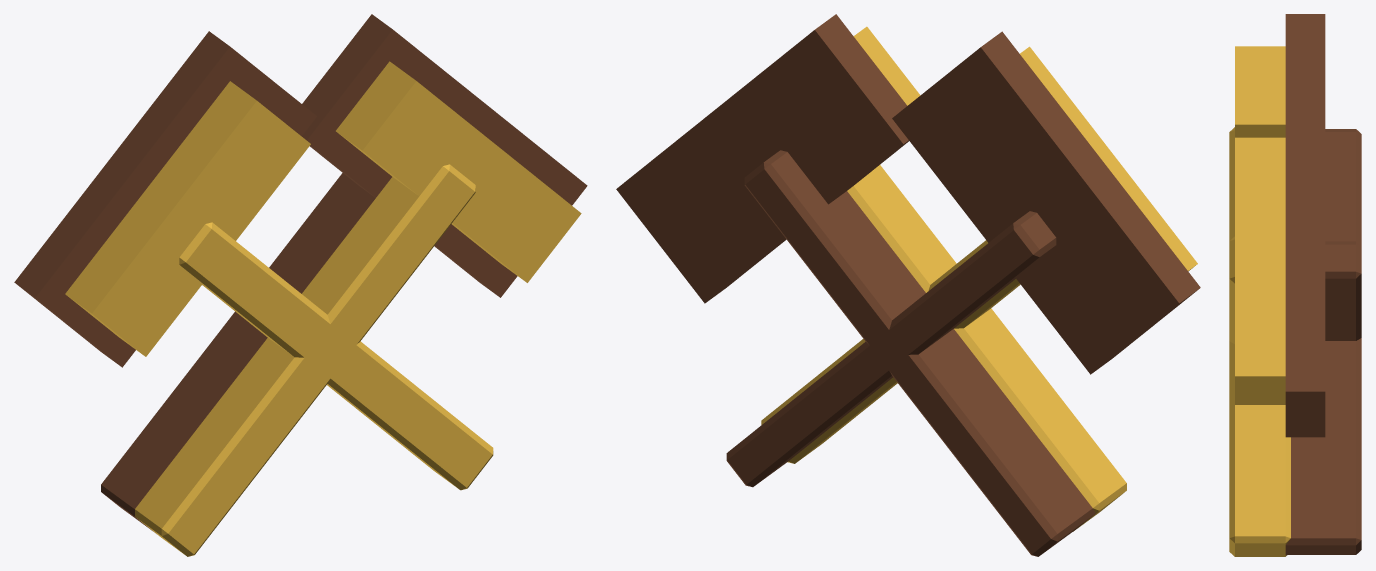
Rendered from Lodge_HammerEmblem.fbx.
3 views of the same model, side by side, from view 1: azimuth 30°, elevation 25°; view 2: azimuth 150°, elevation 25°; view 3: azimuth 270°, elevation 25° (orthographic). The views are drawn at different scales.
Parts seen in each view (by area): view 1: Emblem, EmblemBack; view 2: EmblemBack, Emblem; view 3: EmblemBack, Emblem.
Part boxes in pixels (x1,y1,x2,y2): Emblem: [65, 61, 581, 556]; EmblemBack: [14, 14, 587, 531]; EmblemBack: [616, 14, 1200, 556]; Emblem: [761, 26, 1197, 531]; EmblemBack: [1285, 14, 1361, 554]; Emblem: [1229, 46, 1290, 556].
Size of the model in its own units: 3.32 by 2.72 by 0.73.
